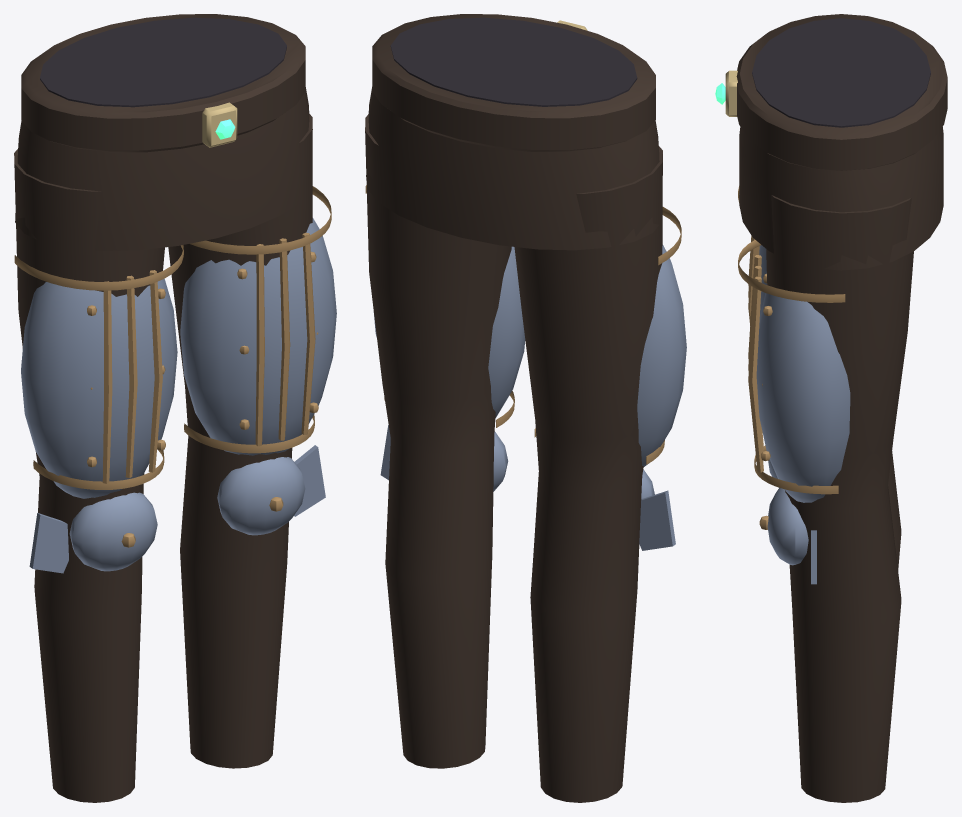
The model's file is depth_deepwarden_cuisses.glb.
3 views of the same model, side by side, from view 1: azimuth 30°, elevation 25°; view 2: azimuth 150°, elevation 25°; view 3: azimuth 270°, elevation 25° (orthographic). The views are drawn at different scales.
Visible parts, largest first — view 1: depth_deepwarden_cuisses; view 2: depth_deepwarden_cuisses; view 3: depth_deepwarden_cuisses.
Part boxes in pixels (left/top/right/bottom): depth_deepwarden_cuisses: left=14, top=14, right=336, bottom=802; depth_deepwarden_cuisses: left=365, top=14, right=686, bottom=802; depth_deepwarden_cuisses: left=715, top=14, right=947, bottom=802.
Size of the model in its own units: 0.3184 by 0.7066 by 0.2182.
